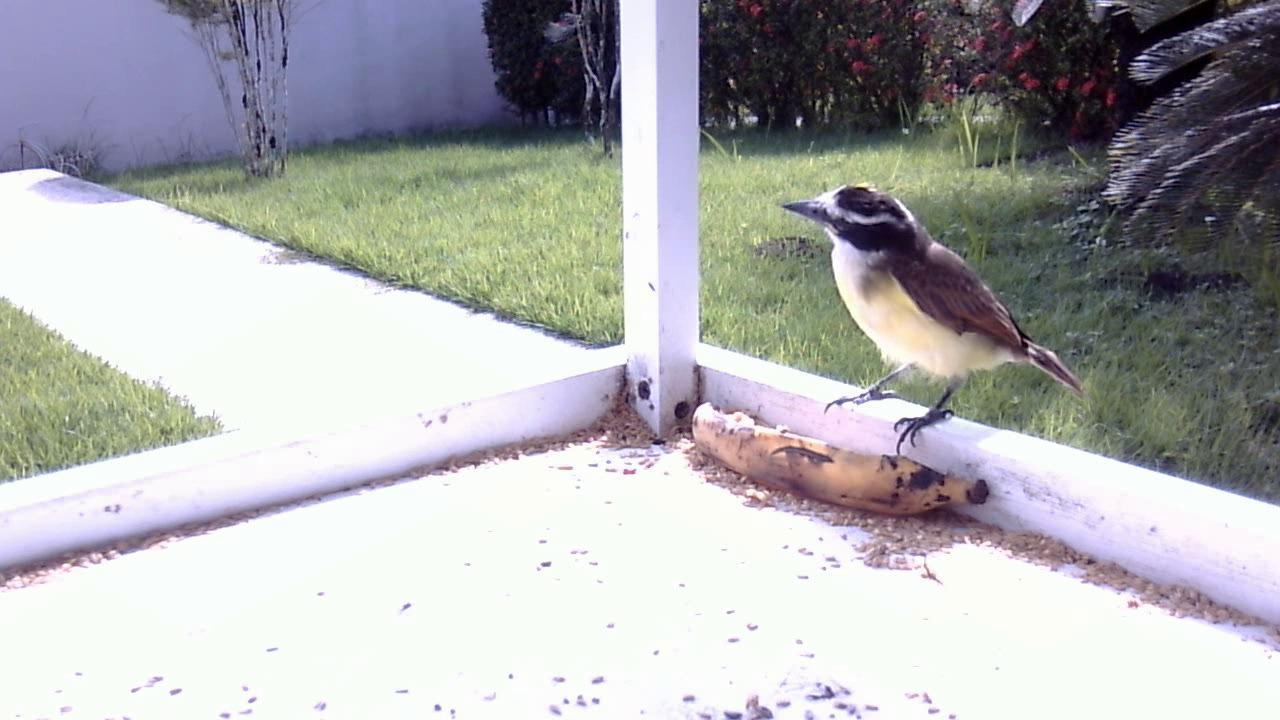bem_te_vi: (774, 177, 1091, 462)
